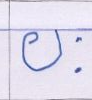anusvara: (76, 37, 82, 43)
